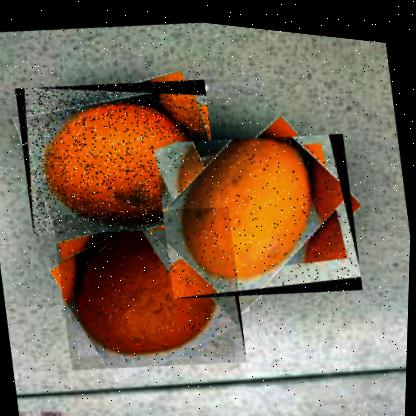orange: (150, 107, 367, 309), (11, 56, 227, 249), (49, 185, 252, 382)
